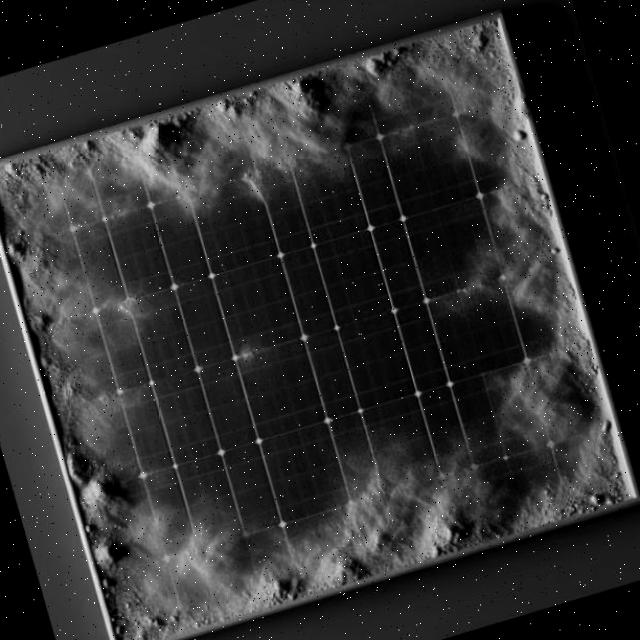Anomaly Solar Panel: (0, 19, 634, 640)
Surface Contaminant: (0, 20, 633, 640), (227, 325, 287, 388)
